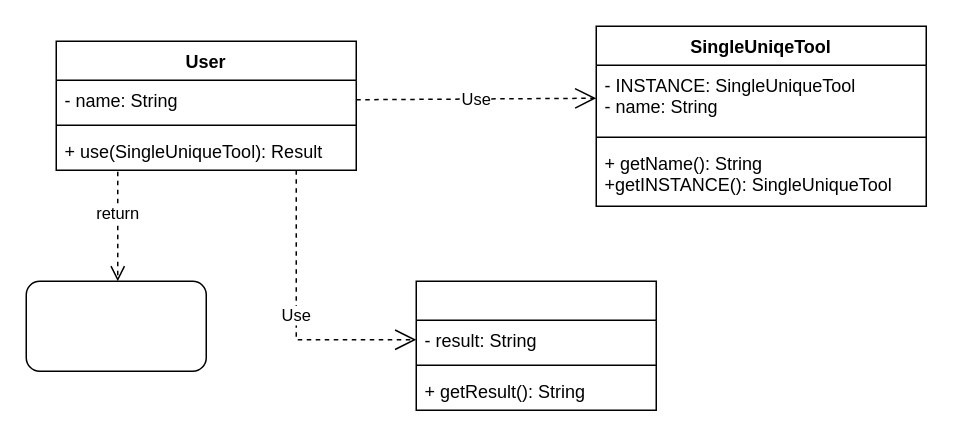
The diagram is 953 pixels wide and 441 high, and some of its shapes have lost their labels. Here are the shapes that lost their labels. From the top down, the box of each, then its label:
(25, 280, 206, 371): Product
(415, 280, 656, 410): Classname
